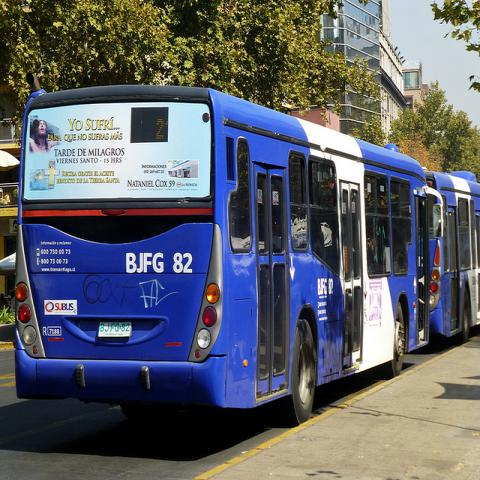bus: (18, 93, 429, 424), (429, 170, 479, 342)
